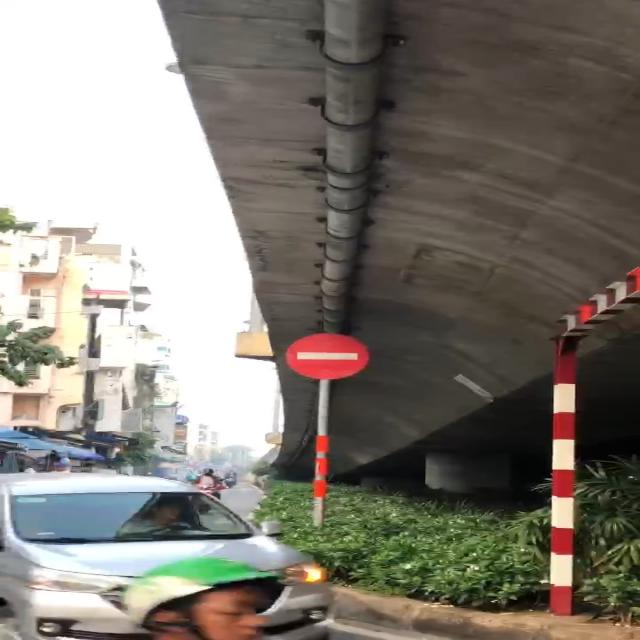Bien bao cam di nguoc chieu: (282, 330, 374, 380)
